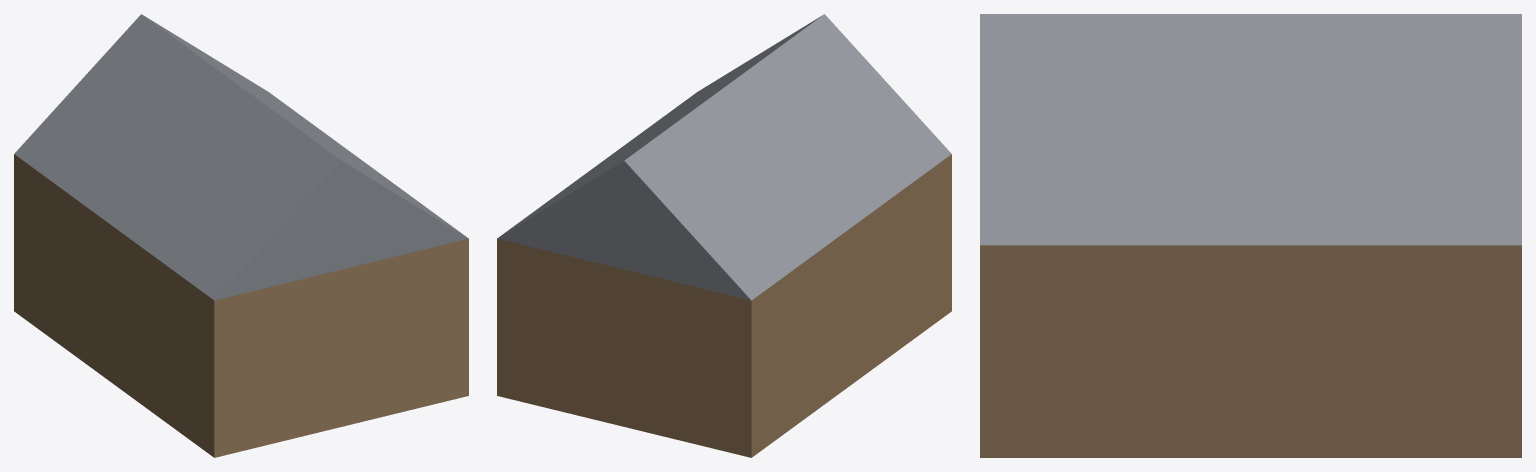
File: Warehouse.fbx
3 views of the same model, side by side, from view 1: azimuth 30°, elevation 25°; view 2: azimuth 150°, elevation 25°; view 3: azimuth 270°, elevation 25° (orthographic). The views are drawn at different scales.
Parts seen in each view (by area): view 1: Warehouse; view 2: Warehouse; view 3: Warehouse.
Part boxes in pixels (x1=…): Warehouse: x1=14, y1=14, x2=468, y2=457; Warehouse: x1=497, y1=14, x2=951, y2=457; Warehouse: x1=980, y1=14, x2=1521, y2=457.
Bounding box in the file's own units: 2.2 × 2.2 × 3.
